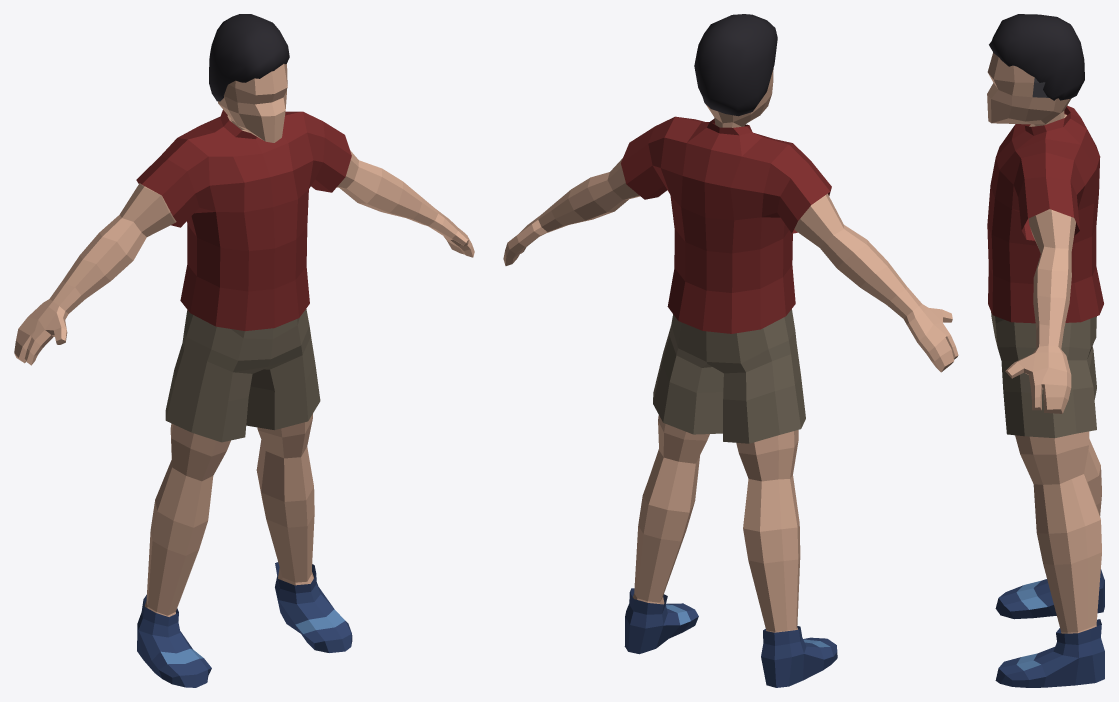
The model's file is Man02.fbx.
3 views of the same model, side by side, from view 1: azimuth 30°, elevation 25°; view 2: azimuth 150°, elevation 25°; view 3: azimuth 270°, elevation 25° (orthographic).
Visible parts, largest first — view 1: base, shirt, pants, shoes, hair; view 2: base, shirt, pants, hair, shoes; view 3: base, shirt, pants, shoes, hair.
Boxes of the visible parts, x1,y1,x2,y2 form: base: (14, 64, 474, 616); shirt: (136, 110, 351, 331); pants: (165, 309, 320, 442); shoes: (137, 562, 352, 687); hair: (209, 14, 289, 101); base: (503, 68, 958, 632); shirt: (621, 116, 831, 333); pants: (653, 309, 805, 443); hair: (694, 14, 777, 116); shoes: (624, 588, 837, 687); base: (987, 52, 1101, 633); shirt: (987, 105, 1103, 323); pants: (991, 312, 1096, 438); shoes: (995, 569, 1104, 687); hair: (989, 14, 1084, 100).
Size of the model in its own units: 1.49 by 2 by 0.3401.
